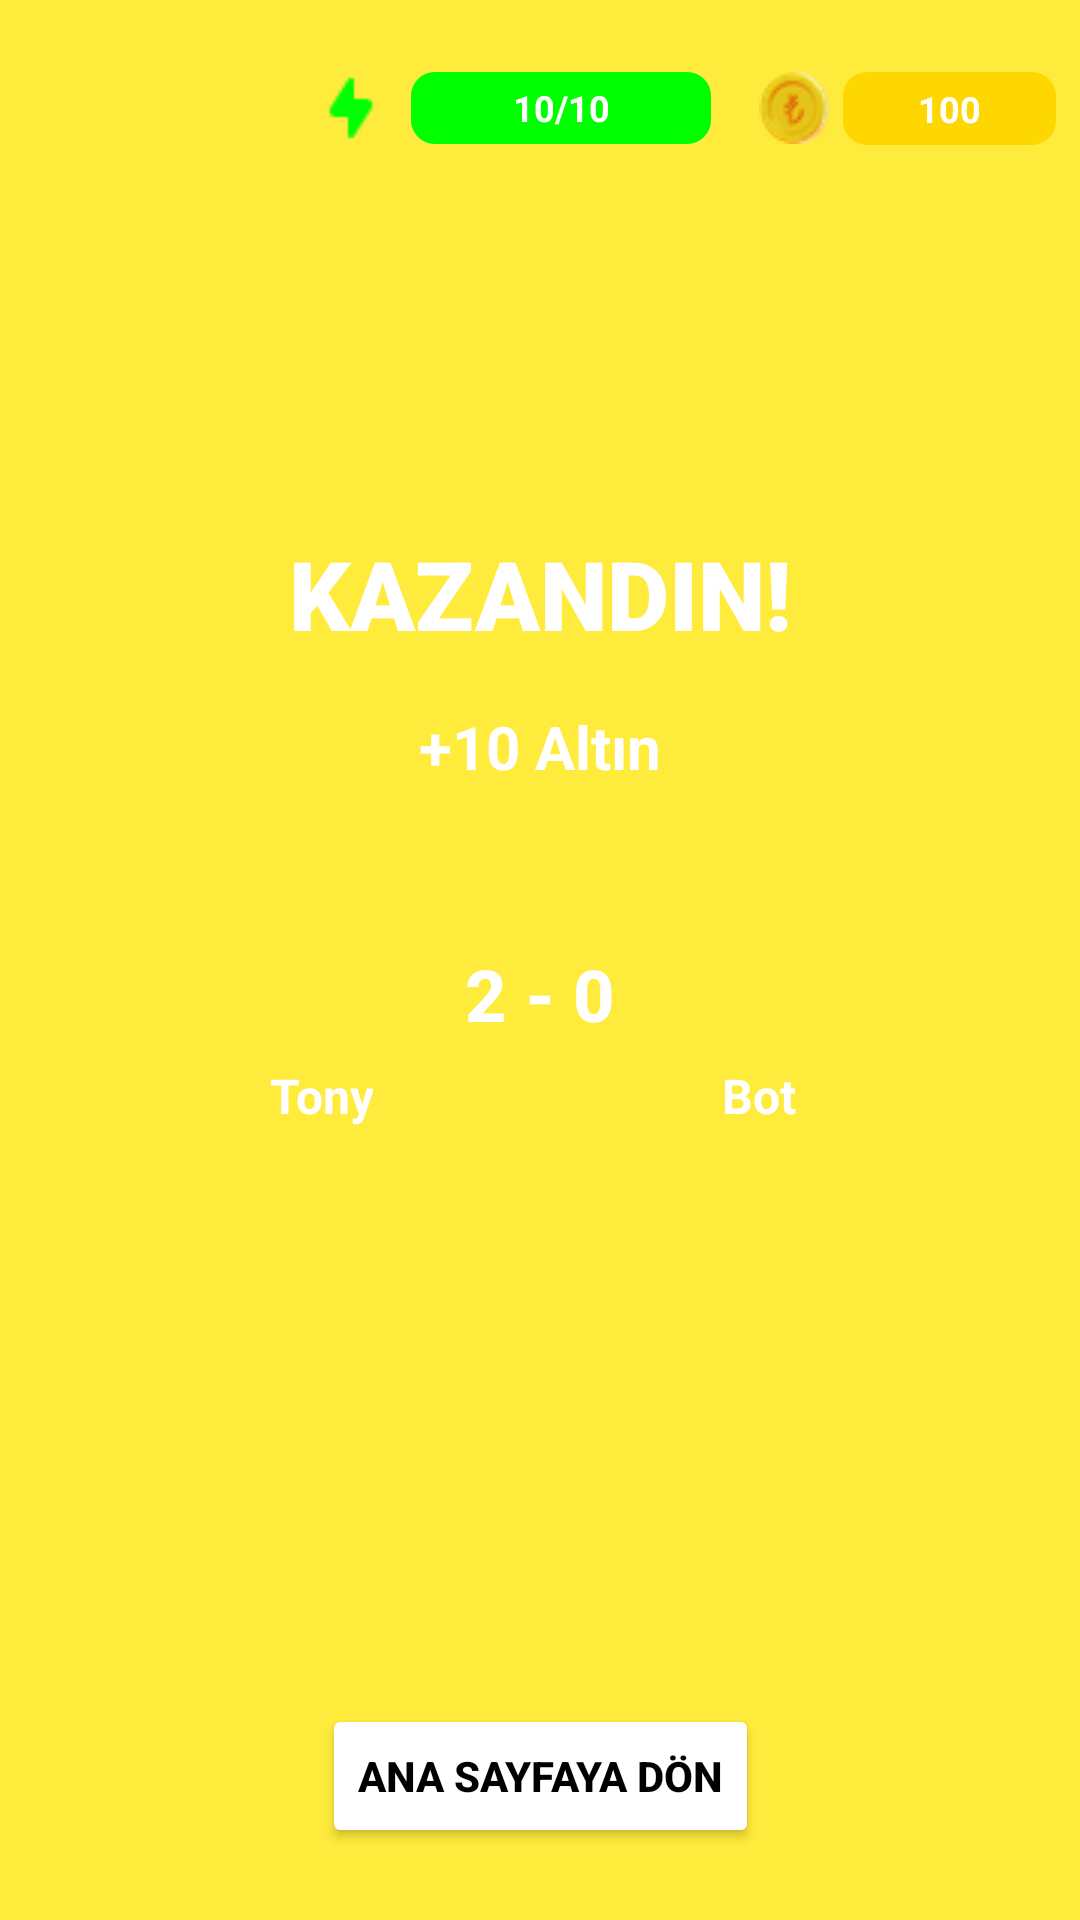

Locate icon controls on the screen. Image size 1080x1920, boxes as box=[x1, y1, x2, y2].
energyicongreen: box=[329, 77, 373, 139]
tlicon: box=[762, 72, 829, 144]
